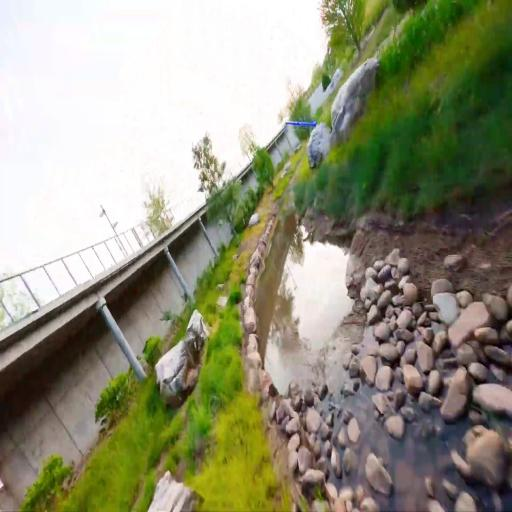uav: (285, 118, 317, 128)
